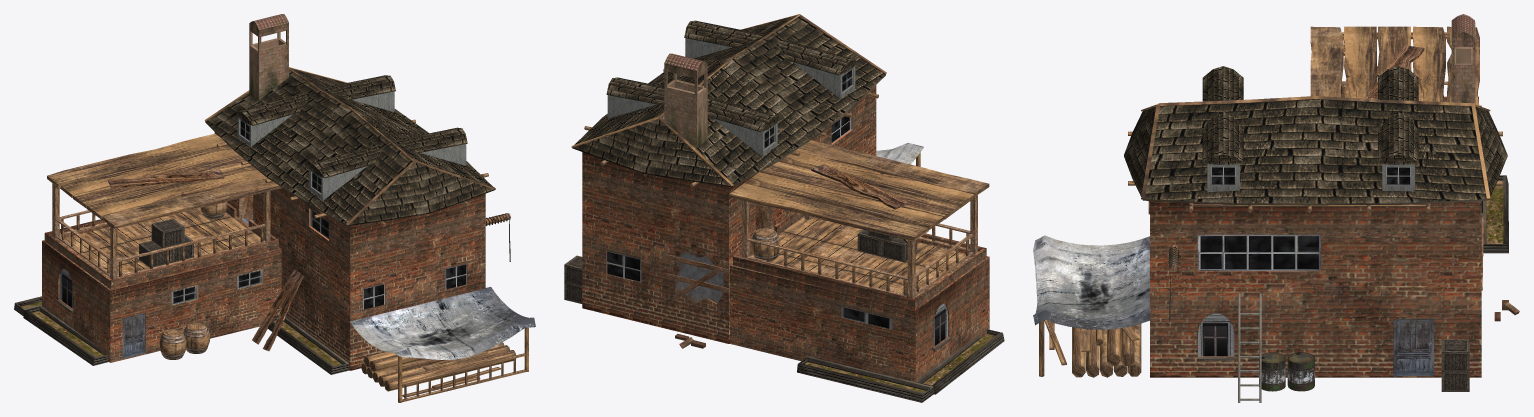
Rendered from large_pub.glb.
The picture shows the model from 3 angles, left to right: view 1: azimuth 30°, elevation 25°; view 2: azimuth 150°, elevation 25°; view 3: azimuth 270°, elevation 25°; orthographic projection. The views are drawn at different scales.
Visible parts, largest first — view 1: Object_2; view 2: Object_2; view 3: Object_2.
Boxes of the visible parts, x1,y1,x2,y2 form: Object_2: [14, 14, 535, 402]; Object_2: [564, 14, 1004, 402]; Object_2: [1033, 14, 1519, 402].
Size of the model in its own units: 388 by 250 by 363.
Materials: 1 (1 with a texture image).
